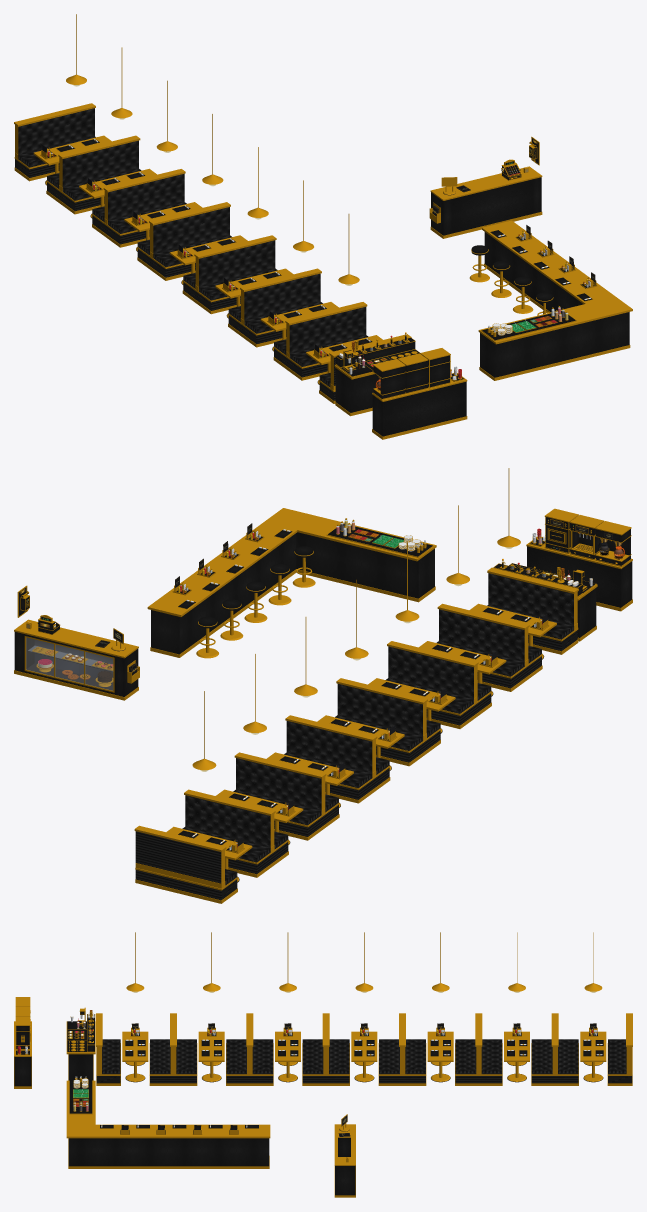
File: dinerDining.glb
The picture shows the model from 3 angles, top to bottom: view 1: azimuth 30°, elevation 25°; view 2: azimuth 150°, elevation 25°; view 3: azimuth 270°, elevation 25°; orthographic projection. The views are drawn at different scales.
Parts seen in each view (by area): view 1: Diner_Dining_Room_Static_Consolidated, Diner_Salad_Bar_SouthCounter_Consolidated, Commercial_Coffee_Brewer_1972_Consolidated, Commercial_Soda_Fountain_1974_Consolidated, Commercial_Countertop_Ice_Bin_Consolidated; view 2: Diner_Dining_Room_Static_Consolidated, Diner_Salad_Bar_SouthCounter_Consolidated, Commercial_Coffee_Brewer_1972_Consolidated, Commercial_Soda_Fountain_1974_Consolidated, Commercial_Countertop_Ice_Bin_Consolidated; view 3: Diner_Dining_Room_Static_Consolidated, Diner_Salad_Bar_SouthCounter_Consolidated, Commercial_Countertop_Ice_Bin_Consolidated.
Part boxes in pixels (x1=…): Diner_Dining_Room_Static_Consolidated: x1=14, y1=14, x2=632, y2=439; Diner_Salad_Bar_SouthCounter_Consolidated: x1=481, y1=306, x2=576, y2=341; Commercial_Coffee_Brewer_1972_Consolidated: x1=373, y1=359, x2=405, y2=399; Commercial_Soda_Fountain_1974_Consolidated: x1=397, y1=353, x2=428, y2=393; Commercial_Countertop_Ice_Bin_Consolidated: x1=420, y1=348, x2=450, y2=388; Diner_Dining_Room_Static_Consolidated: x1=14, y1=468, x2=632, y2=903; Diner_Salad_Bar_SouthCounter_Consolidated: x1=326, y1=518, x2=433, y2=557; Commercial_Coffee_Brewer_1972_Consolidated: x1=595, y1=521, x2=631, y2=566; Commercial_Soda_Fountain_1974_Consolidated: x1=570, y1=515, x2=604, y2=560; Commercial_Countertop_Ice_Bin_Consolidated: x1=544, y1=508, x2=578, y2=553; Diner_Dining_Room_Static_Consolidated: x1=14, y1=932, x2=632, y2=1197; Diner_Salad_Bar_SouthCounter_Consolidated: x1=69, y1=1076, x2=92, y2=1114; Commercial_Countertop_Ice_Bin_Consolidated: x1=15, y1=1016, x2=30, y2=1049.
Bounding box in the file's own units: 9.85 × 4.4 × 17.92.
Materials: 455 (106 with a texture image).
